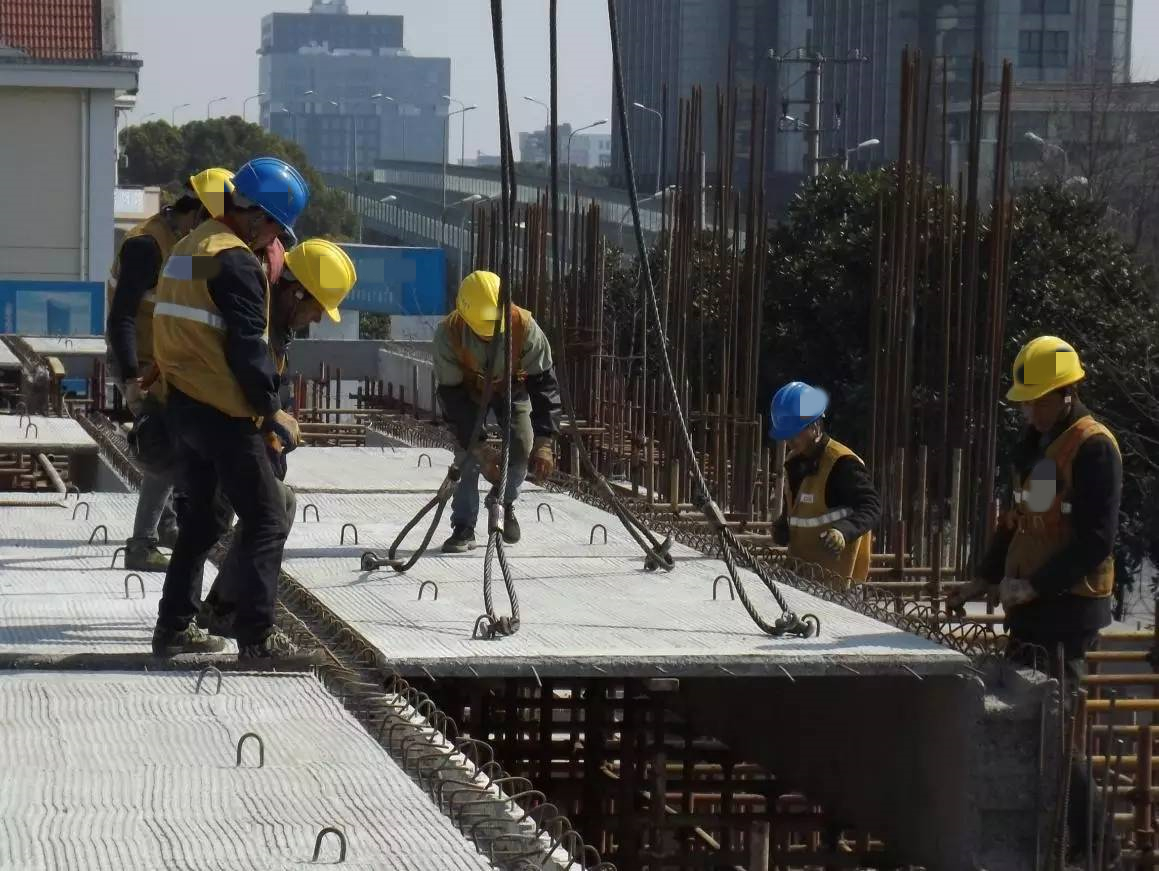helmet: (231, 156, 311, 241), (284, 238, 357, 324), (1007, 335, 1085, 401), (453, 270, 505, 340), (769, 382, 828, 438), (188, 167, 235, 218)
person: (150, 151, 319, 673), (945, 333, 1122, 673), (107, 163, 245, 576), (427, 266, 562, 560), (764, 373, 884, 597), (278, 234, 364, 389)
vest: (1004, 416, 1118, 610), (153, 228, 256, 414), (778, 443, 874, 590), (447, 308, 530, 401)
